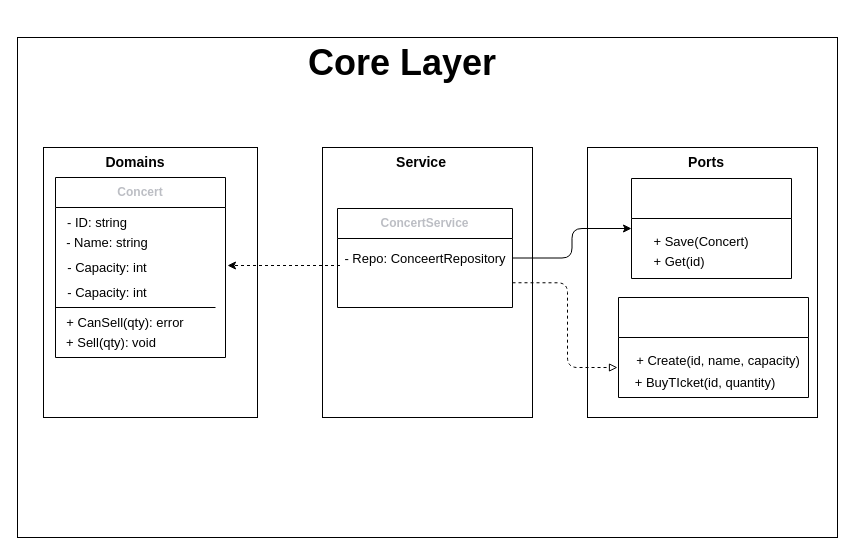
Image size: 855x555. Some labels were removed from this diagram. Each missing label, with the box of its shape:
<<interface>> ConcertRepository: (630, 178, 792, 278)
<<interface>> ConcertService: (618, 296, 808, 398)
